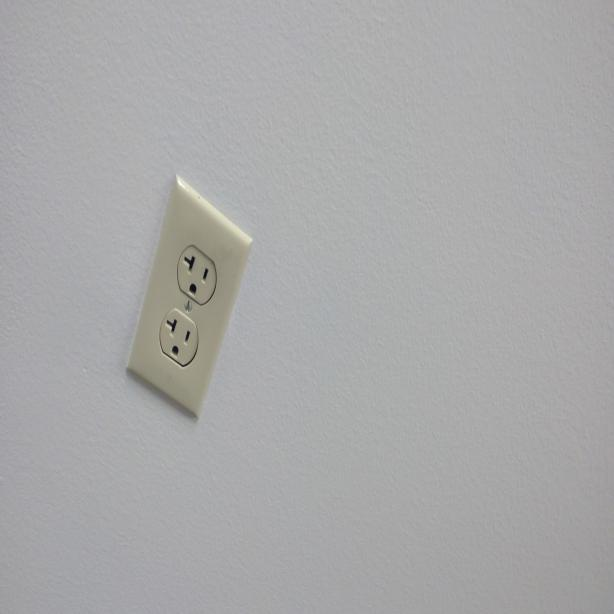typeb: (159, 313, 200, 367), (182, 251, 217, 302)
